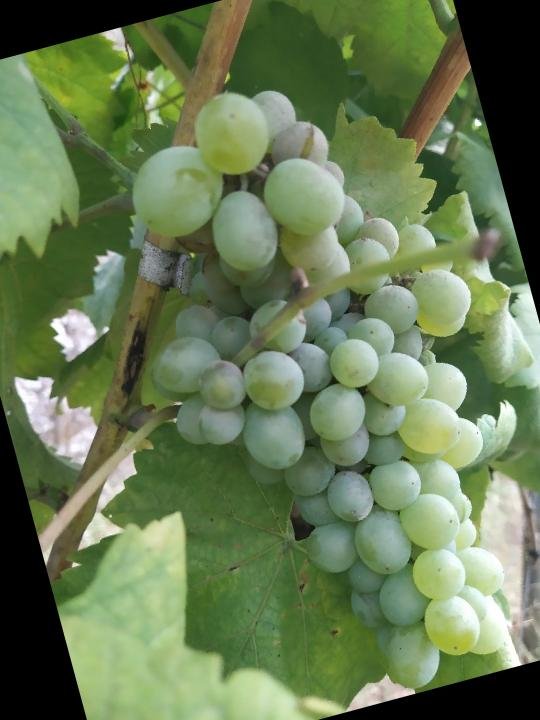grape: (89, 44, 540, 720)
